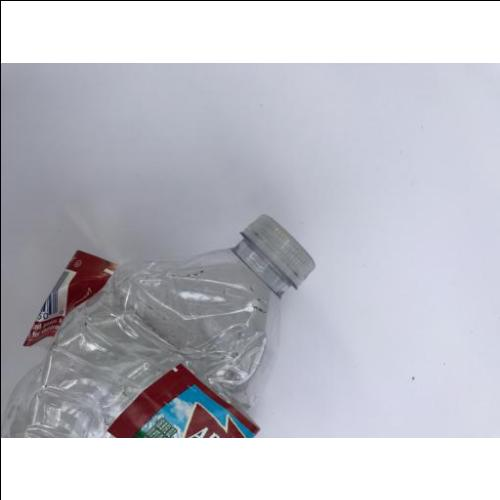plastic: (1, 214, 316, 436)
